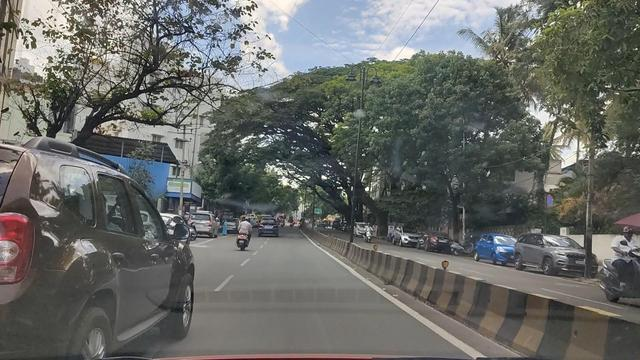LMV: (4, 144, 198, 360)
